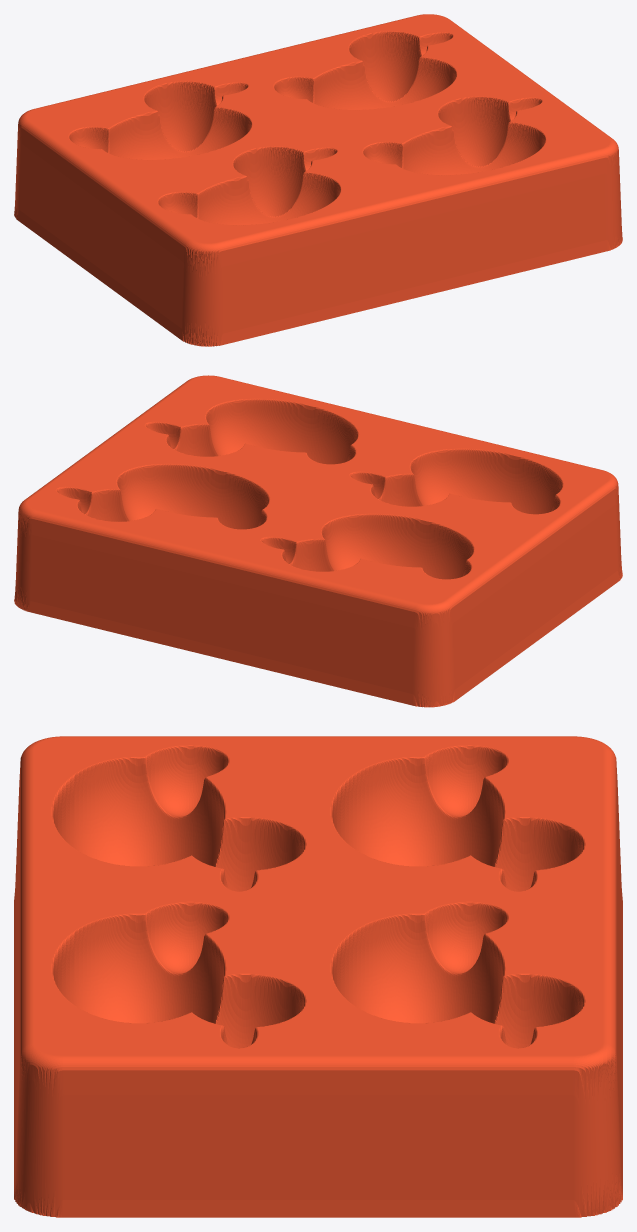
Rendered from mold.glb.
The picture shows the model from 3 angles, top to bottom: view 1: azimuth 30°, elevation 25°; view 2: azimuth 150°, elevation 25°; view 3: azimuth 270°, elevation 25°; orthographic projection. The views are drawn at different scales.
Visible parts, largest first — view 1: geometry_0; view 2: geometry_0; view 3: geometry_0.
Boxes of the visible parts, x1,y1,x2,y2 form: geometry_0: (14, 14, 622, 346); geometry_0: (14, 375, 622, 707); geometry_0: (14, 736, 622, 1217).
Size of the model in its own units: 0.1452 by 0.031 by 0.1115.
